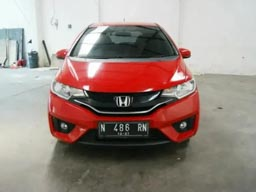plat: (98, 123, 148, 132)
